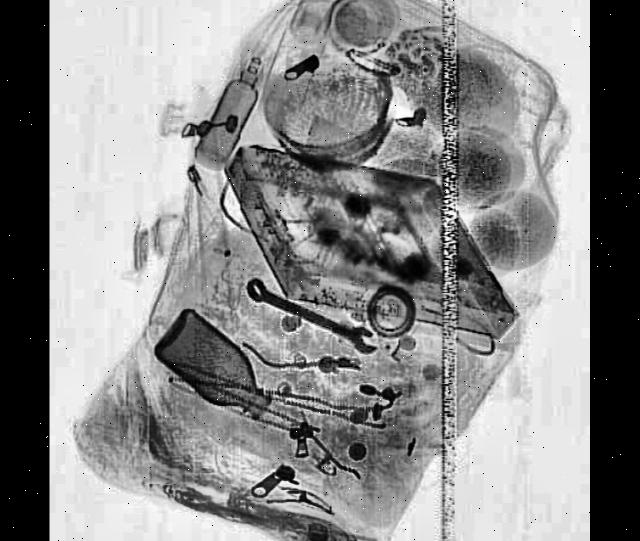Wrench: (246, 278, 382, 360)
